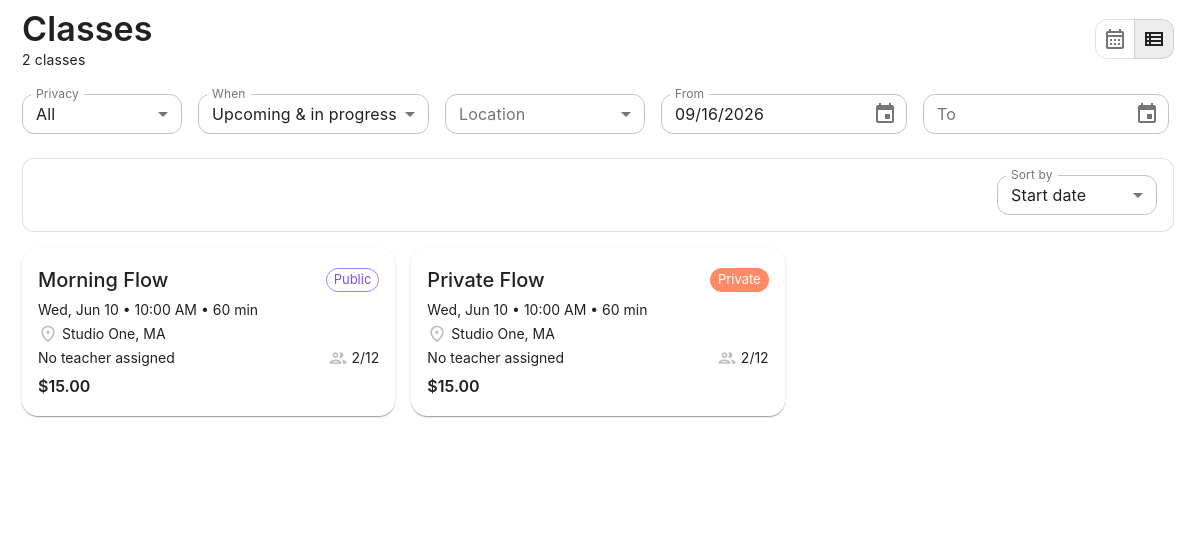
Test: ClassBrowser › switches to the calendar view and filters private classes
Click the button named "Calendar view" at [1115, 39], box [1095, 19, 1135, 59]
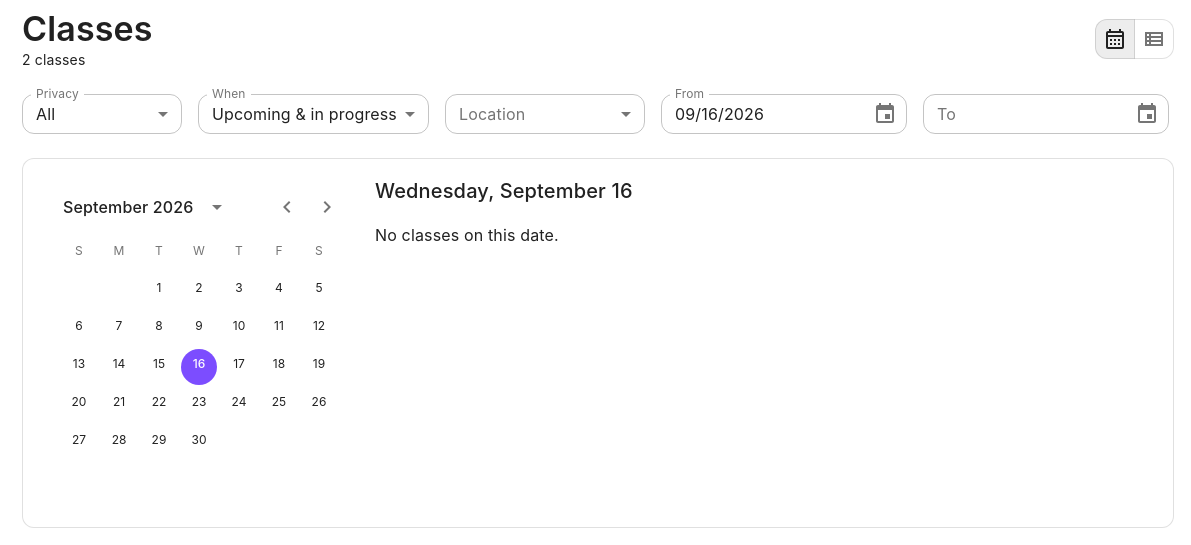
Check: the text "No classes on this date." is shown, box [375, 225, 559, 245]
Click the dropdown named "Privacy" at [46, 114], box [36, 104, 55, 124]
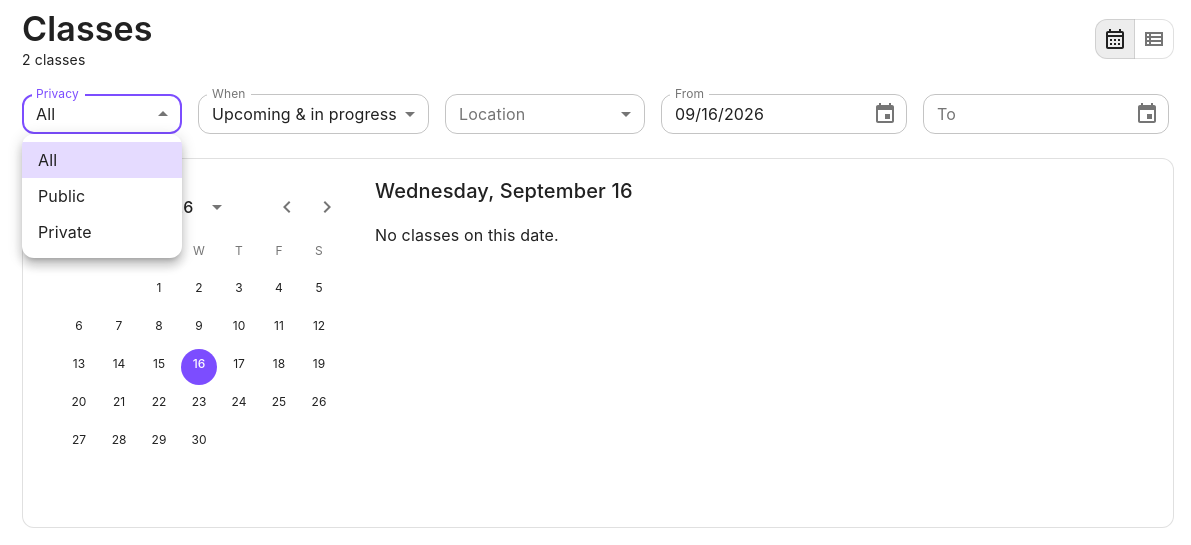
Click the option "Private" at [65, 232], box [38, 222, 92, 242]
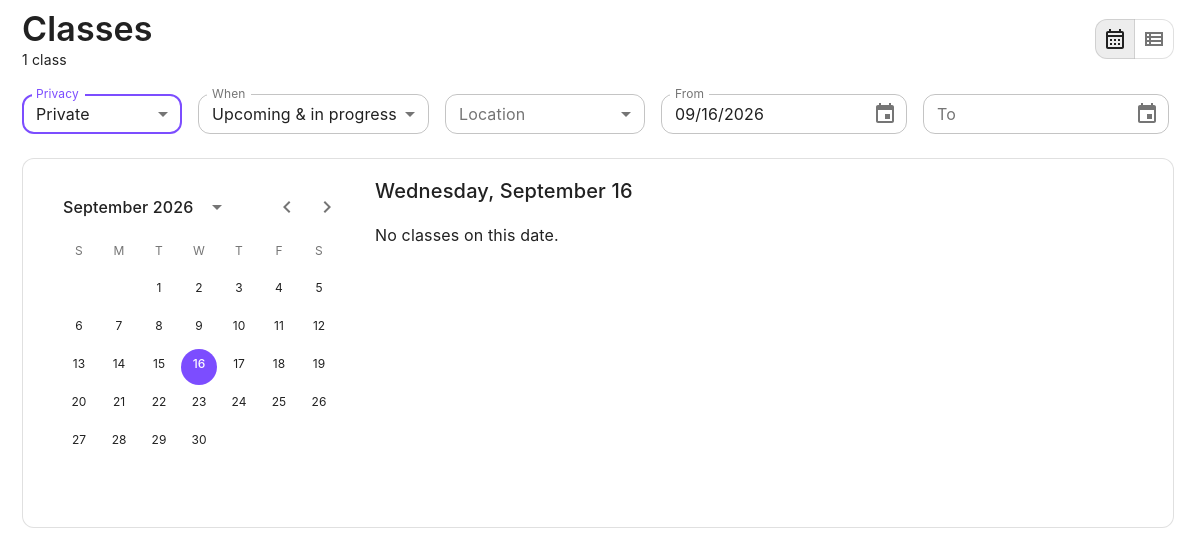
Check: the text "1 class" is shown, box [22, 51, 67, 68]
